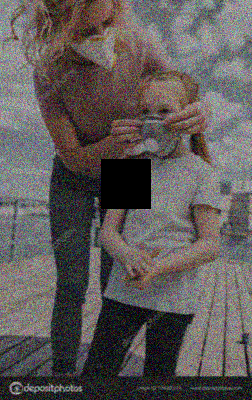with_mask: (72, 9, 117, 75), (138, 100, 182, 158)
